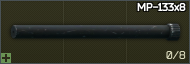MP-133 12ga 8-shell magazine: (0, 0, 190, 64)
